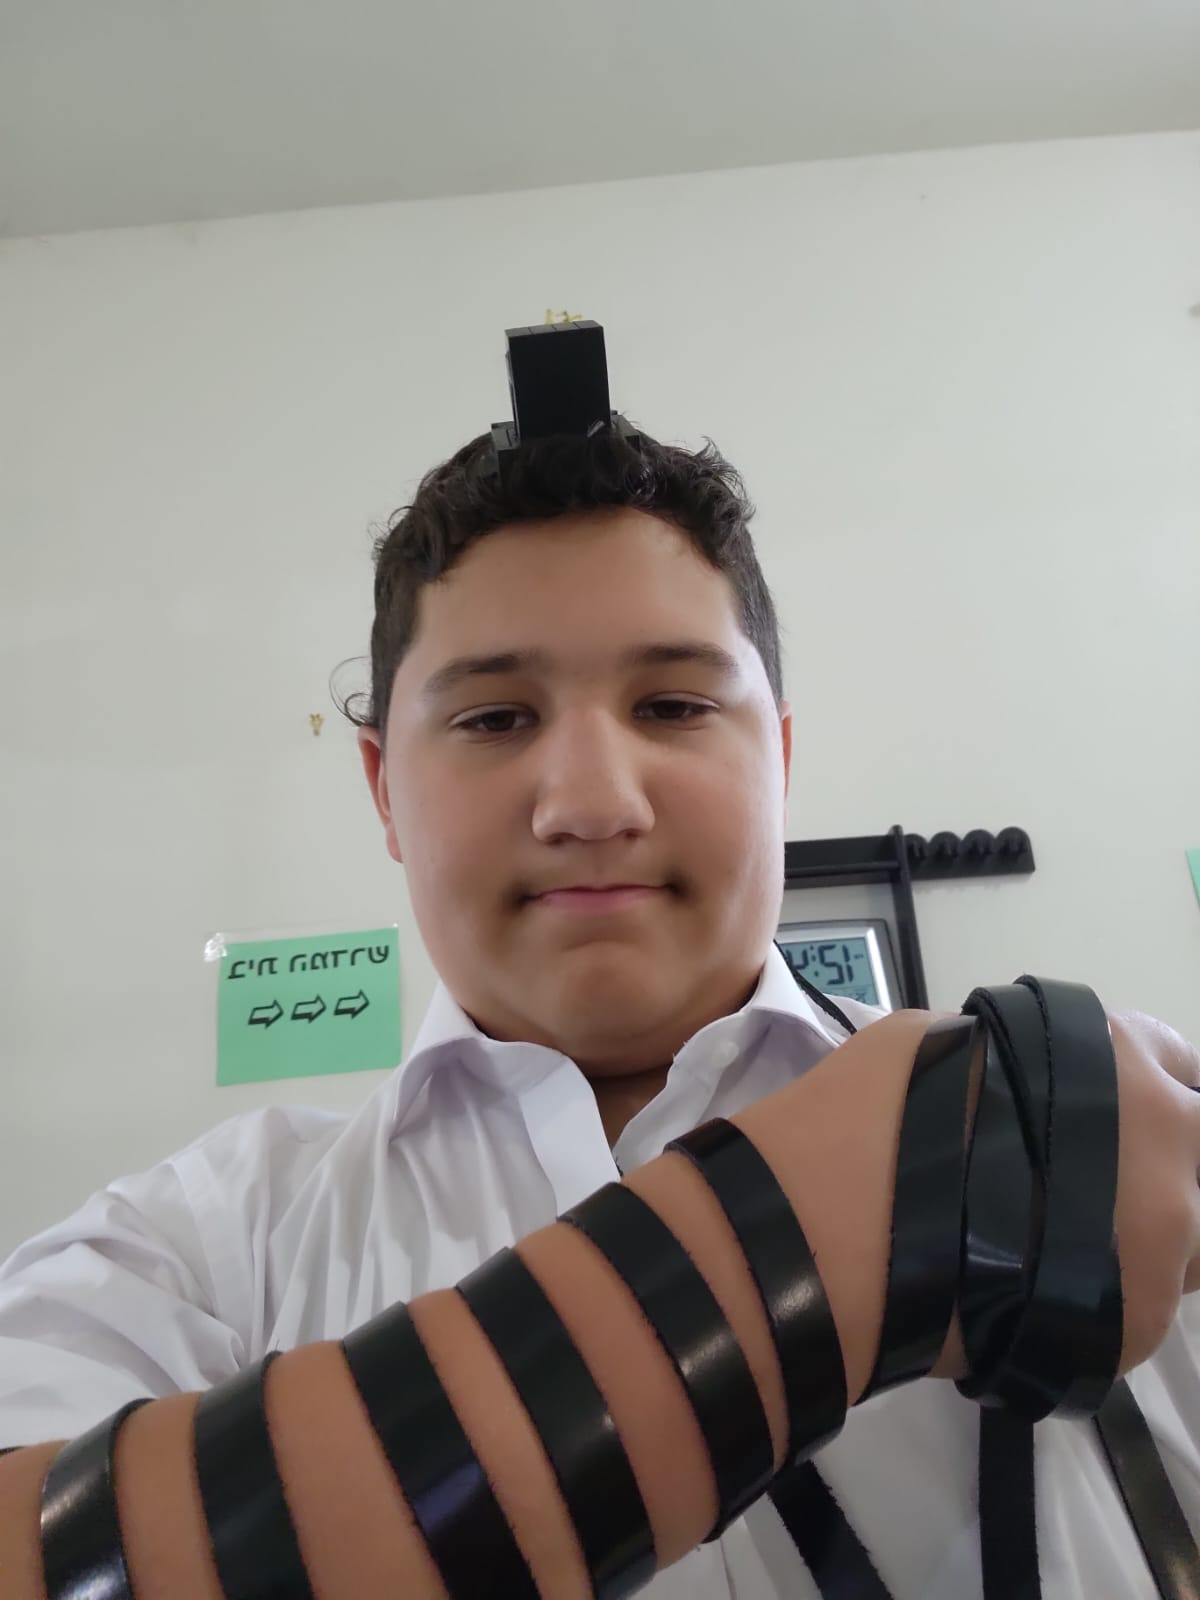tefillin: (489, 320, 633, 471)
